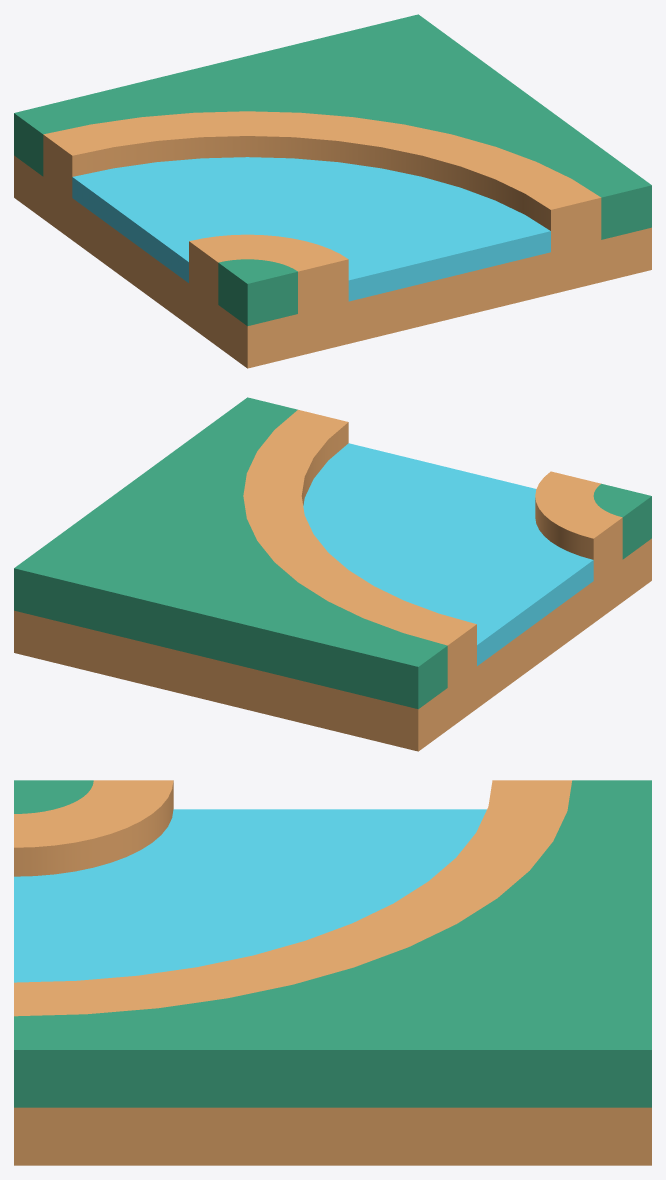
Rendered from tile_riverCorner.dae.
The picture shows the model from 3 angles, top to bottom: view 1: azimuth 30°, elevation 25°; view 2: azimuth 150°, elevation 25°; view 3: azimuth 270°, elevation 25°; orthographic projection. The views are drawn at different scales.
Visible parts, largest first — view 1: tile_riverCorner; view 2: tile_riverCorner; view 3: tile_riverCorner.
Part boxes in pixels (x1,y1,x2,y2): tile_riverCorner: (14,14,651,368); tile_riverCorner: (14,397,651,751); tile_riverCorner: (14,780,651,1165).
Size of the model in its own units: 1 by 0.2 by 1.
